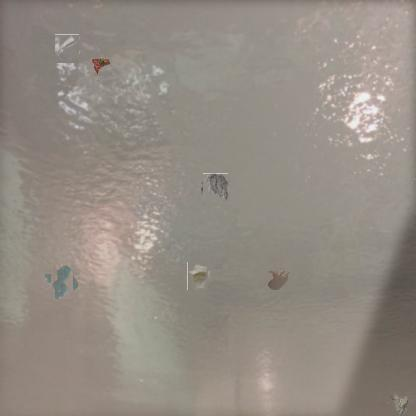dirty: (202, 174, 229, 202), (54, 35, 81, 62), (386, 392, 413, 416), (186, 264, 210, 289), (90, 58, 112, 78)
liquid: (48, 266, 76, 296), (266, 268, 290, 290)
